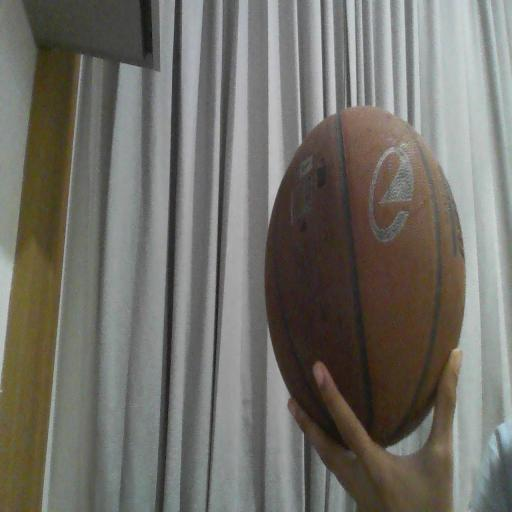basketball: (265, 107, 465, 446)
